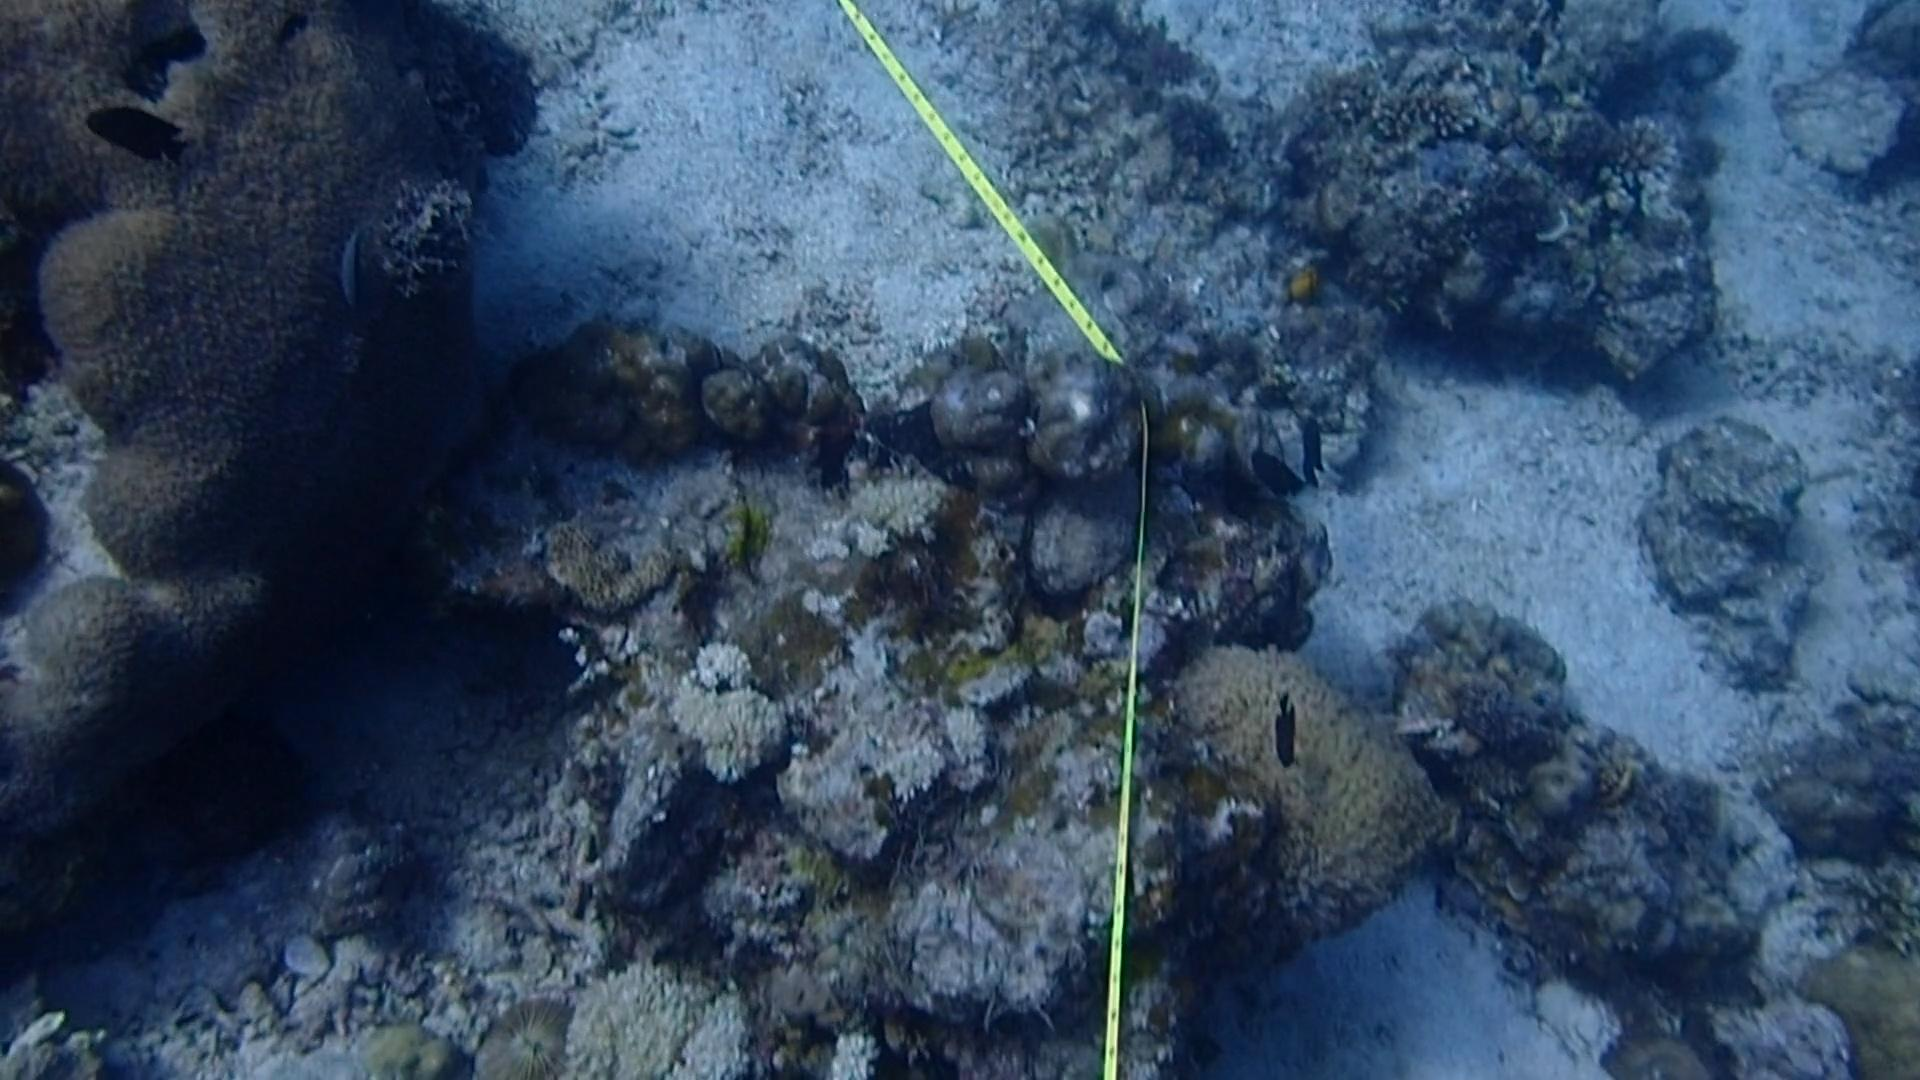Dark Fish: (75, 88, 199, 185), (1400, 713, 1478, 814), (1244, 439, 1311, 500), (1266, 688, 1316, 761), (1291, 405, 1337, 480), (260, 3, 318, 58), (1511, 22, 1555, 82)
Light Fish: (322, 216, 377, 311)
